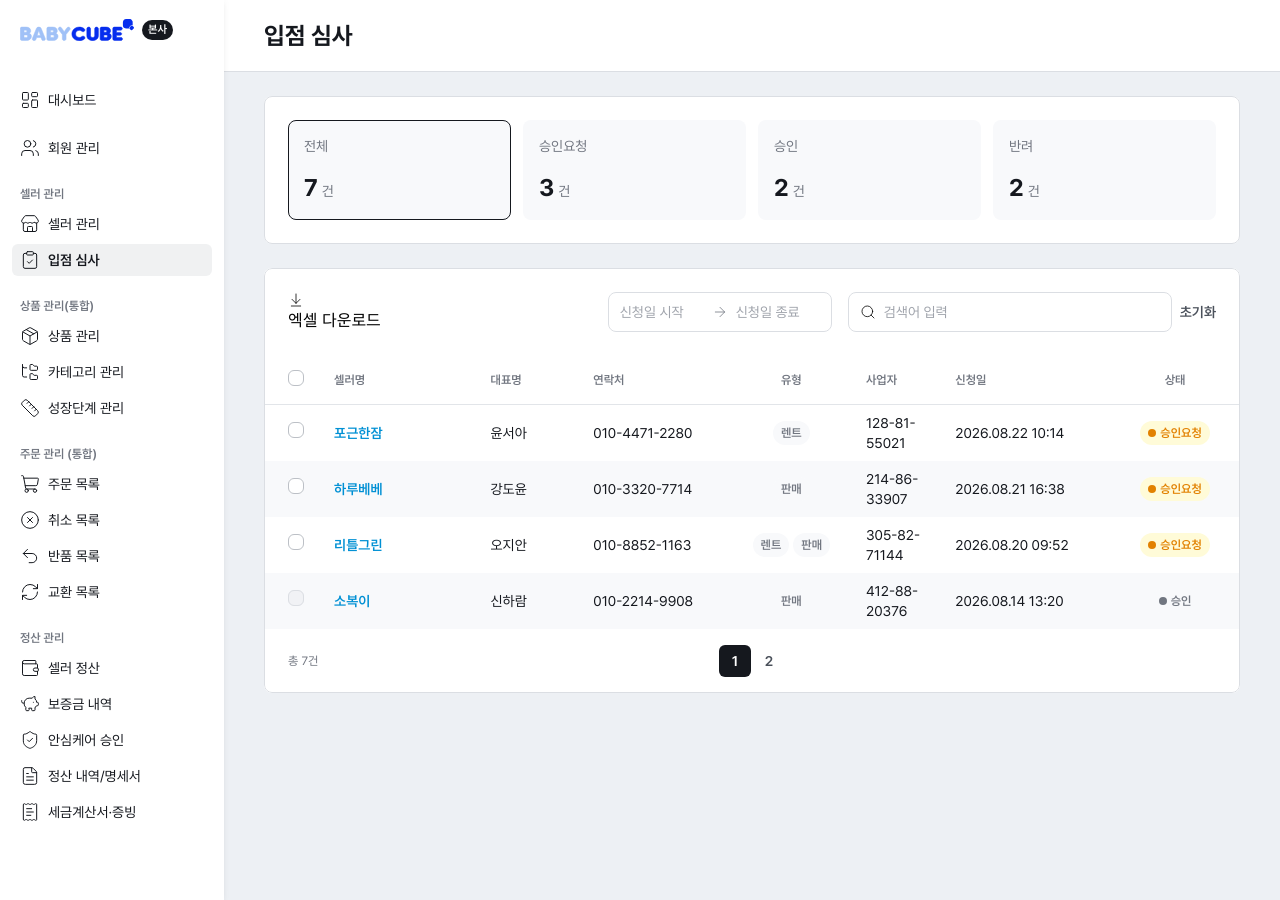
Scenario: SellerReviewPage (S04 입점 심사) › 행 선택 › 전체 선택은 심사 가능한 행만 고른다
The width and height of the screenshot is (1280, 900).
Click the checkbox named "전체 선택".
click(296, 378)  # box x1=288 y1=370 x2=304 y2=386
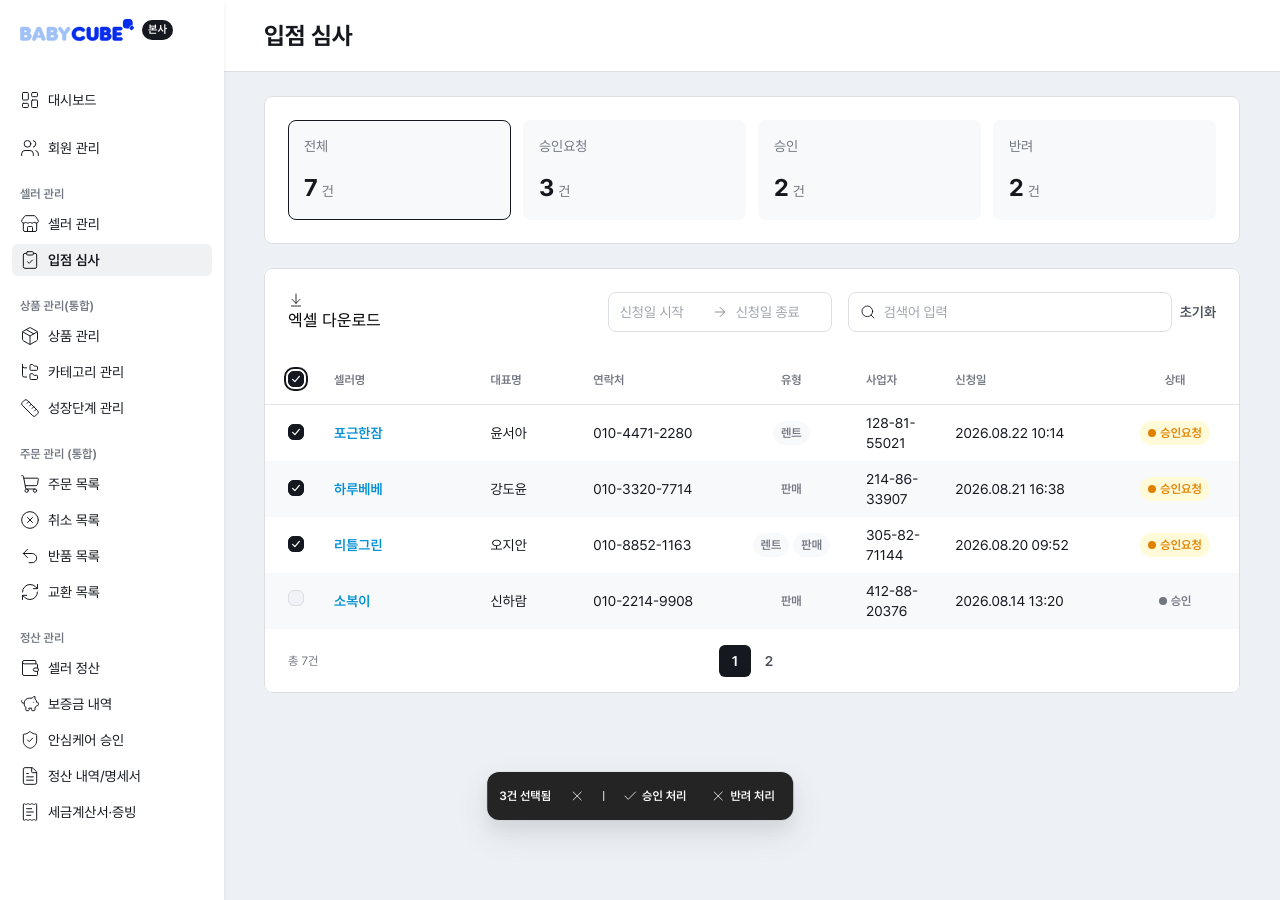
Check: the text "3건 선택됨" is shown, box x1=499 y1=788 x2=551 y2=804
